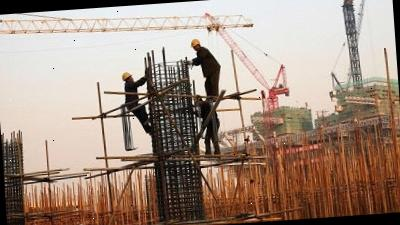helmet: (118, 69, 132, 82), (190, 36, 200, 48)
